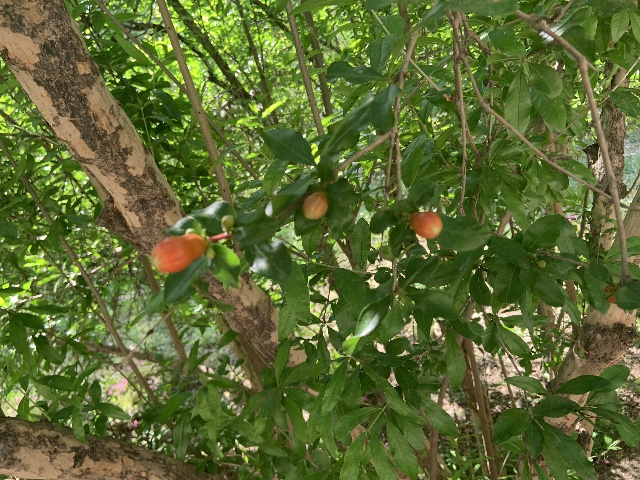bud: (151, 233, 207, 273), (409, 210, 442, 239), (302, 191, 327, 219)
